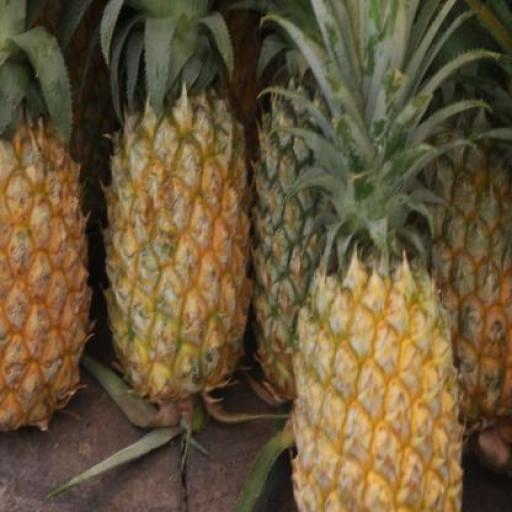------------------------------: (104, 101, 248, 407)
Pineapple - v8 v1: (287, 236, 455, 511), (0, 132, 87, 423)
